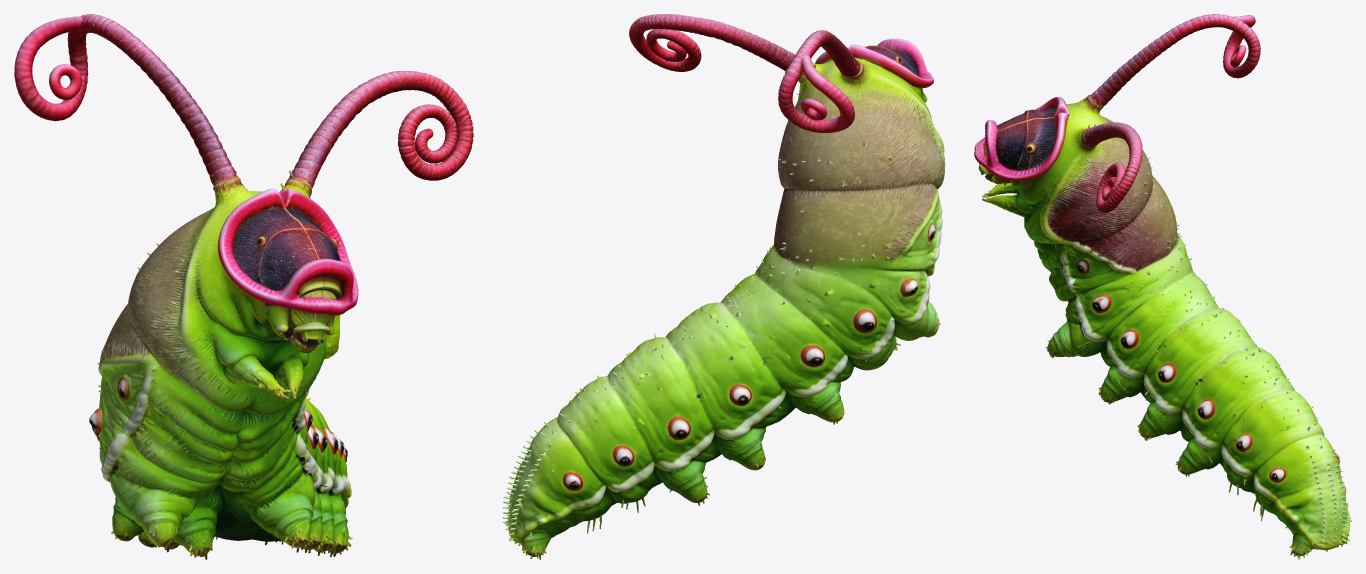
The model's file is green-caterpillar.glb.
3 views of the same model, side by side, from view 1: azimuth 30°, elevation 25°; view 2: azimuth 150°, elevation 25°; view 3: azimuth 270°, elevation 25° (orthographic). The views are drawn at different scales.
Visible parts, largest first — view 1: tripo_node_854dc446-033f-41ce-8e3d-a73a8ed5b8d9; view 2: tripo_node_854dc446-033f-41ce-8e3d-a73a8ed5b8d9; view 3: tripo_node_854dc446-033f-41ce-8e3d-a73a8ed5b8d9.
Boxes of the visible parts, x1,y1,x2,y2 form: tripo_node_854dc446-033f-41ce-8e3d-a73a8ed5b8d9: (14, 14, 473, 559); tripo_node_854dc446-033f-41ce-8e3d-a73a8ed5b8d9: (502, 14, 945, 559); tripo_node_854dc446-033f-41ce-8e3d-a73a8ed5b8d9: (974, 14, 1351, 559).
Bounding box in the file's own units: 0.6031 × 0.9805 × 0.7498.
1 material, 1 textured.
